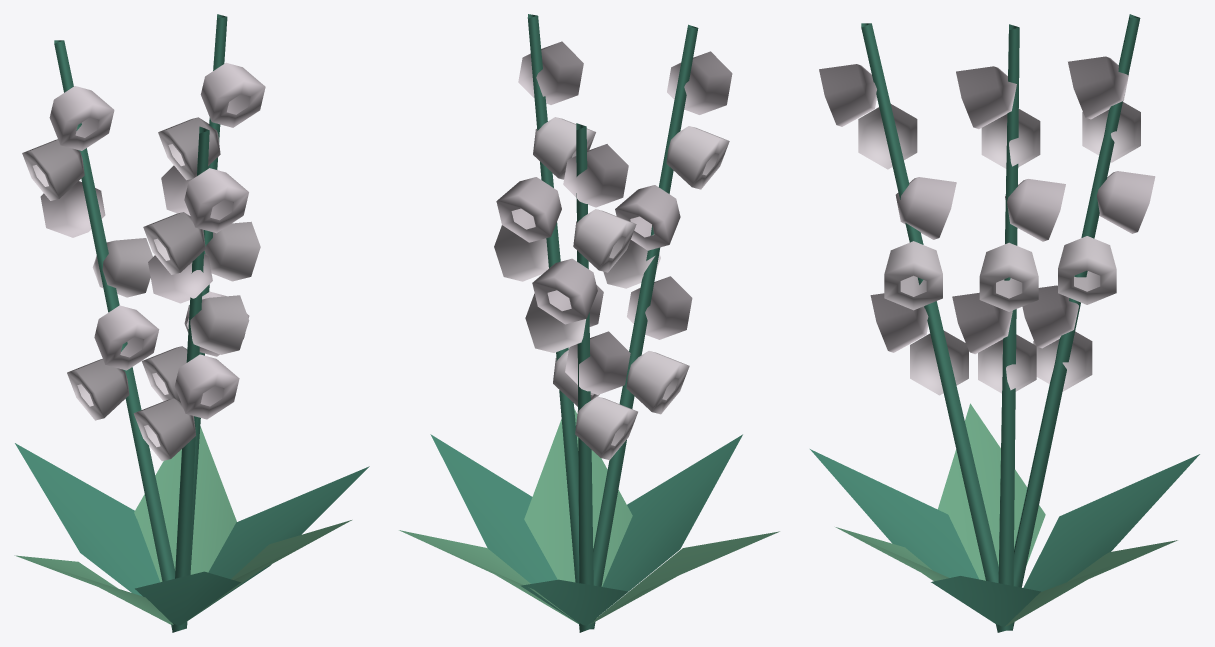
File: foxglove_white.glb
The picture shows the model from 3 angles, left to right: view 1: azimuth 30°, elevation 25°; view 2: azimuth 150°, elevation 25°; view 3: azimuth 270°, elevation 25°; orthographic projection. The views are drawn at different scales.
Parts seen in each view (by area): view 1: foxglove_white; view 2: foxglove_white; view 3: foxglove_white.
Boxes of the visible parts, x1,y1,x2,y2 form: foxglove_white: [14, 14, 369, 632]; foxglove_white: [399, 14, 779, 632]; foxglove_white: [810, 14, 1199, 632].
Size of what is drawn, in the model's own units: 0.7982 by 1.3 by 0.7335.
